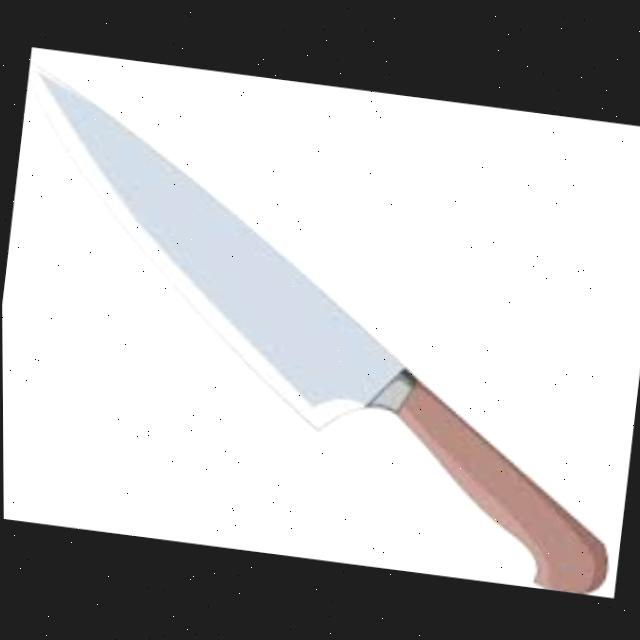Knife: (0, 55, 640, 596)
